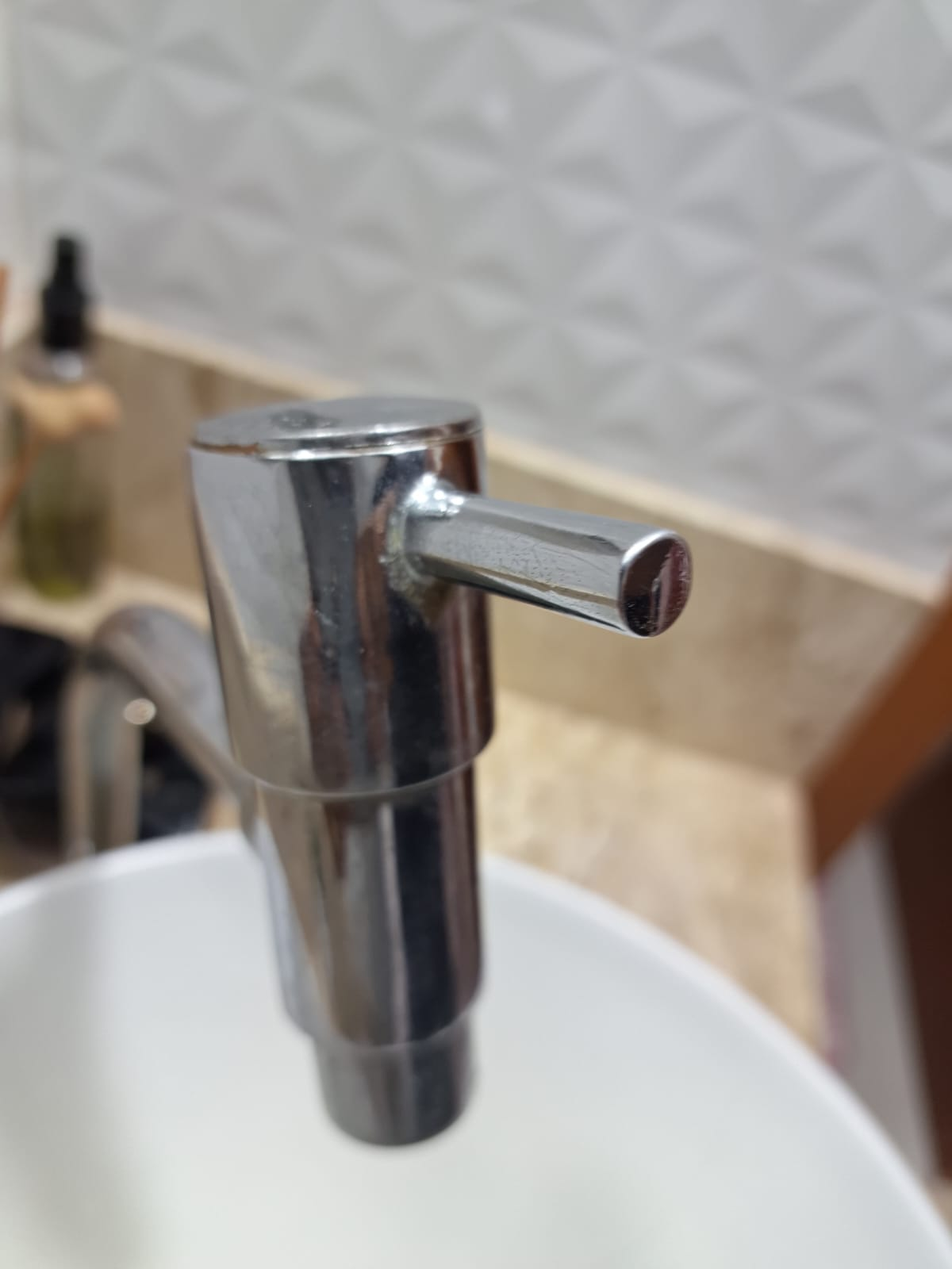torneira_fechada: (128, 369, 735, 1170)
